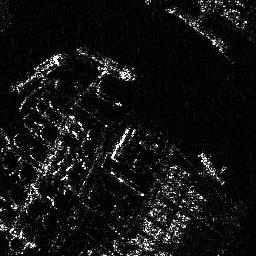ship: (11, 50, 68, 91), (74, 45, 137, 82), (199, 151, 226, 187)
